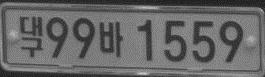1: (134, 19, 159, 62)
5: (191, 20, 216, 63), (163, 19, 187, 62)
9: (219, 20, 243, 63), (71, 17, 95, 59), (44, 16, 68, 57)
대구_V: (19, 15, 44, 57)
바: (98, 20, 123, 58)
